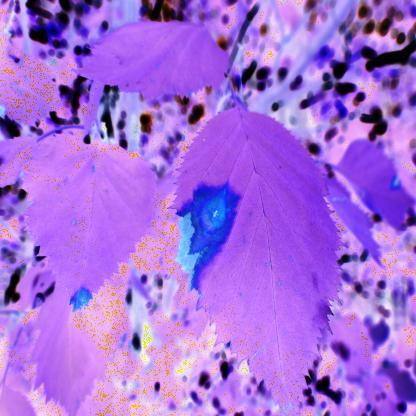Apple rust leaf: (166, 97, 351, 407), (25, 126, 164, 328)
